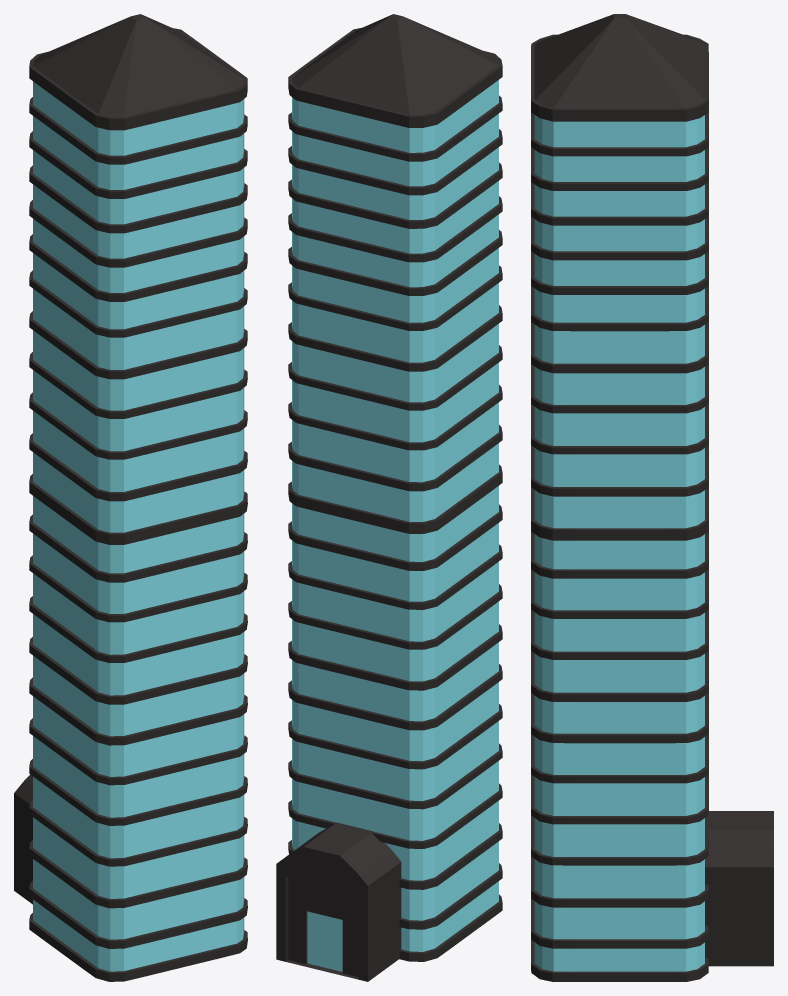
File: skyscraper1_big.fbx
The picture shows the model from 3 angles, left to right: view 1: azimuth 30°, elevation 25°; view 2: azimuth 150°, elevation 25°; view 3: azimuth 270°, elevation 25°; orthographic projection. The views are drawn at different scales.
Parts seen in each view (by area): view 1: Cube, Cube.001, Cube.002, Cube.003; view 2: Cube, Cube.001, Cube.003, Cube.002, Cube.004; view 3: Cube, Cube.001, Cube.002, Cube.003.
Part boxes in pixels (x1=…): Cube: x1=33, y1=81, x2=244, y2=971; Cube.001: x1=29, y1=28, x2=247, y2=981; Cube.002: x1=33, y1=14, x2=243, y2=117; Cube.003: x1=14, y1=774, x2=32, y2=904; Cube: x1=292, y1=80, x2=498, y2=951; Cube.001: x1=288, y1=28, x2=502, y2=961; Cube.003: x1=276, y1=822, x2=401, y2=981; Cube.002: x1=292, y1=14, x2=498, y2=114; Cube.004: x1=307, y1=911, x2=342, y2=971; Cube: x1=534, y1=115, x2=704, y2=971; Cube.001: x1=531, y1=34, x2=708, y2=981; Cube.002: x1=534, y1=14, x2=704, y2=108; Cube.003: x1=705, y1=811, x2=773, y2=966.
Size of the model in its own units: 2324 by 13397 by 3176.
